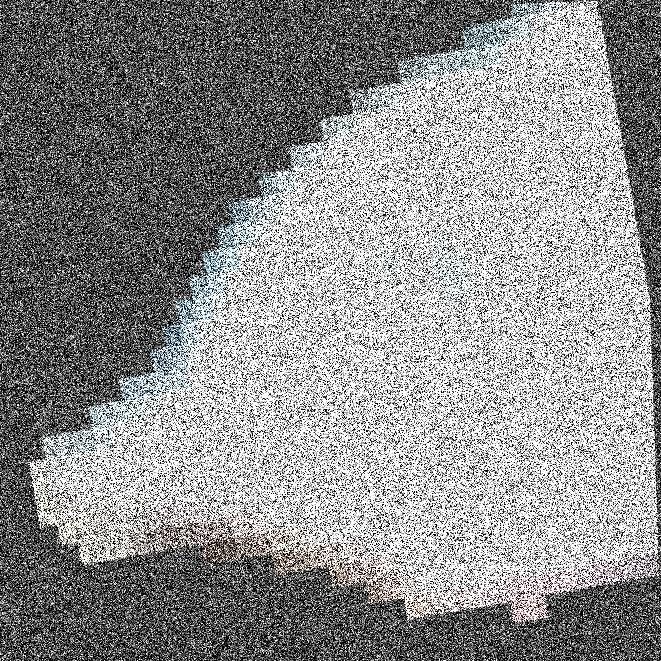Capacete: (345, 0, 660, 660)
